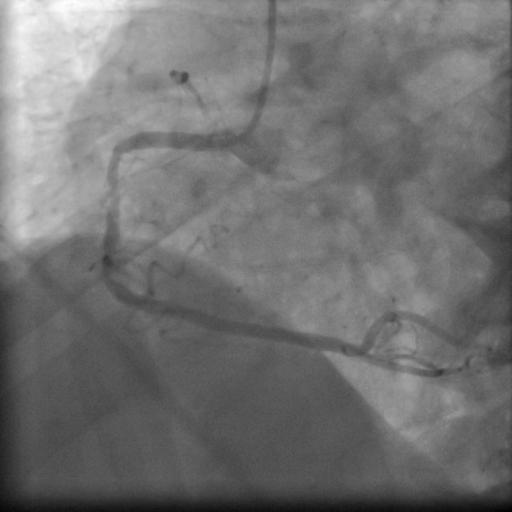Stenosis: (97, 147, 125, 269)
